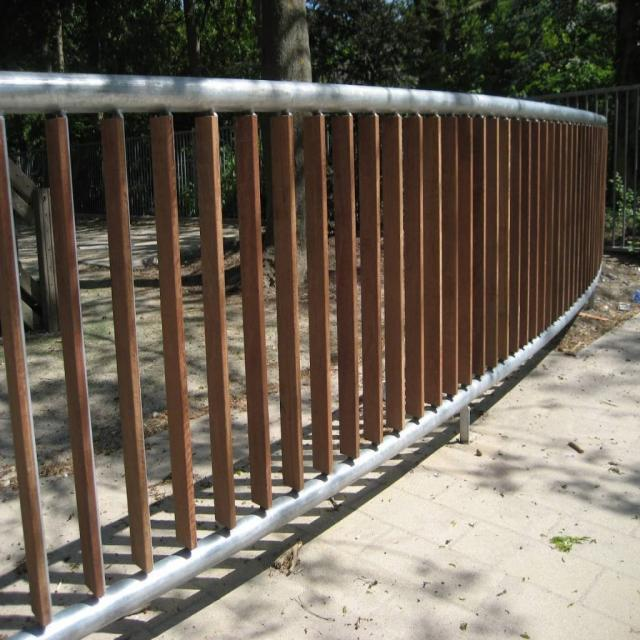fence line: (13, 83, 475, 539), (425, 107, 616, 371)
